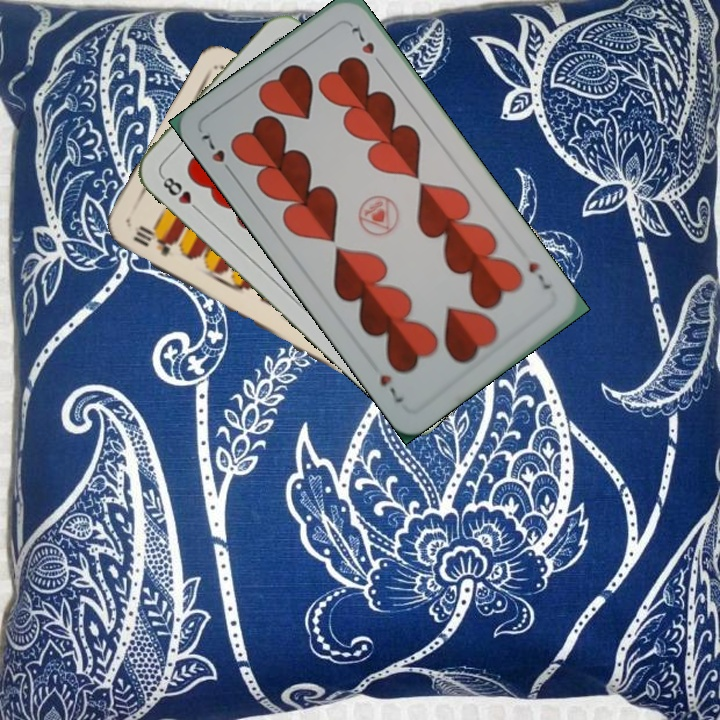E10: (129, 221, 184, 259)
H7: (196, 127, 237, 179), (524, 258, 554, 293)
H8: (157, 171, 204, 216)
